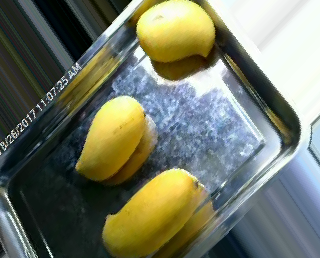Mango: (102, 169, 203, 256), (75, 95, 145, 181), (135, 0, 216, 60)
